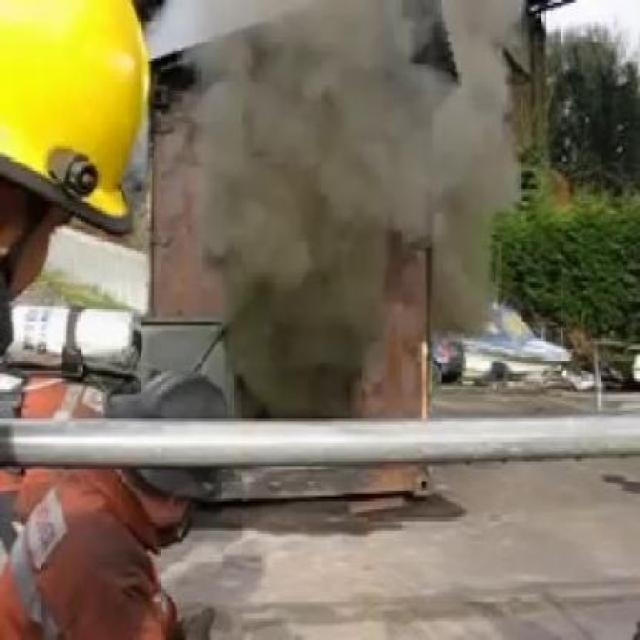smoke: (203, 16, 406, 376), (376, 40, 509, 309), (426, 2, 525, 147)
